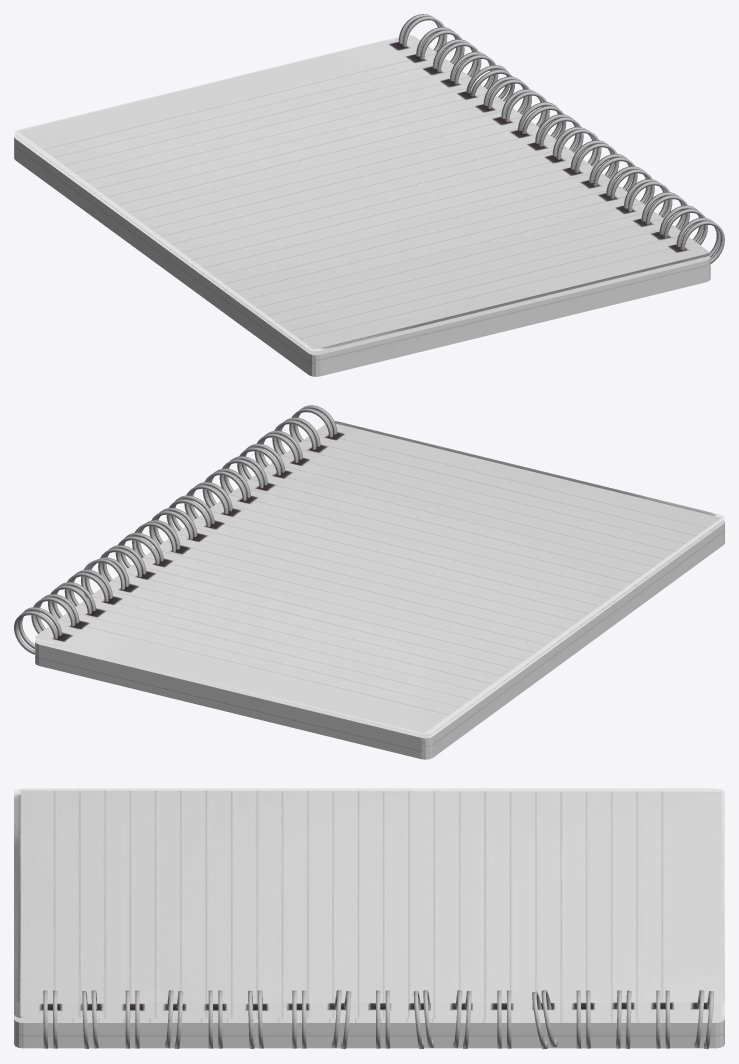
The model's file is notebook.fbx.
3 views of the same model, one above another, from view 1: azimuth 30°, elevation 25°; view 2: azimuth 150°, elevation 25°; view 3: azimuth 270°, elevation 25° (orthographic). The views are drawn at different scales.
Visible parts, largest first — view 1: page, Notebook; view 2: page, Notebook; view 3: page, Notebook.
Boxes of the visible parts, box(x1,y1,x2,y2) form: page: box(14, 35, 710, 351); Notebook: box(14, 14, 724, 376); page: box(35, 421, 724, 734); Notebook: box(14, 405, 724, 759); page: box(14, 788, 724, 1018); Notebook: box(14, 990, 724, 1049).
Size of the model in its own units: 0.5771 by 0.7115 by 0.0633.
